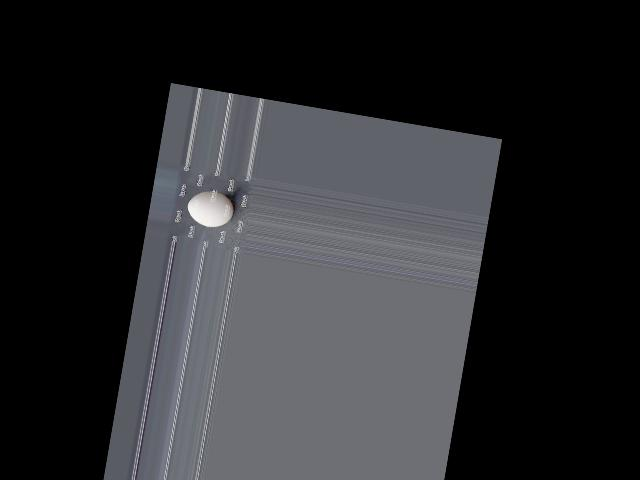egg: (185, 187, 236, 230)
